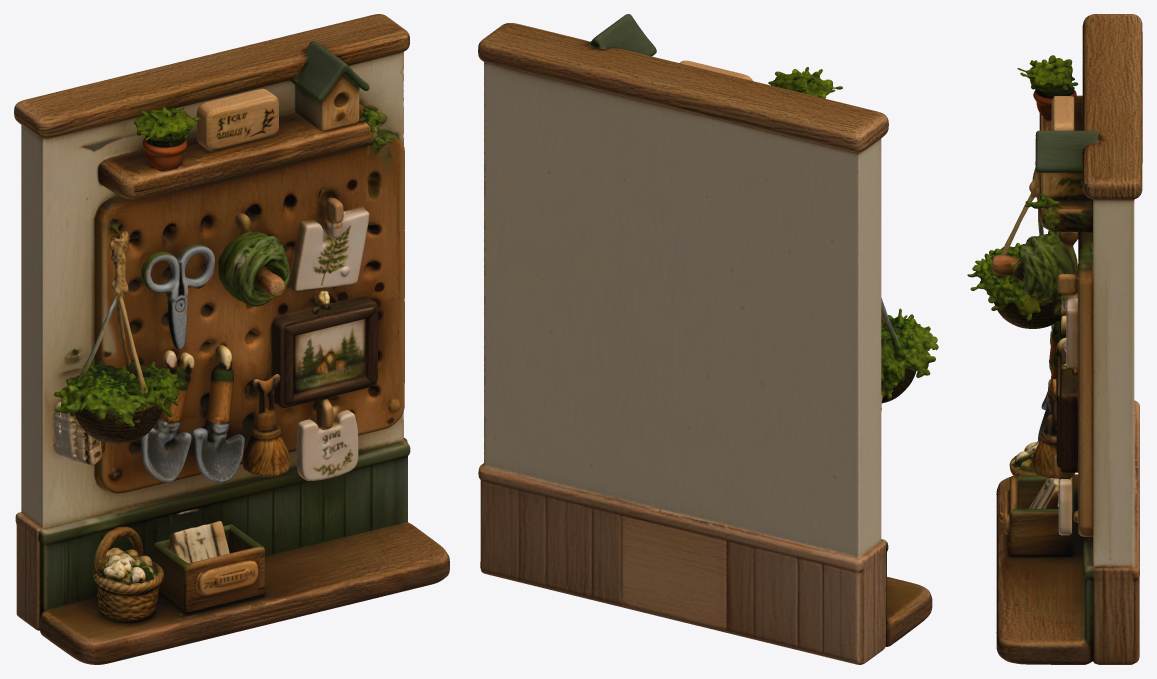
File: C07-木质迷你工具板3d模型.glb
3 renders of one model, left to right at view 1: azimuth 30°, elevation 25°; view 2: azimuth 150°, elevation 25°; view 3: azimuth 270°, elevation 25°, orthographic. The views are drawn at different scales.
Visible parts, largest first — view 1: tripo_node_0944fab5-f02f-4e29-8cd1-57a3e54fe517; view 2: tripo_node_0944fab5-f02f-4e29-8cd1-57a3e54fe517; view 3: tripo_node_0944fab5-f02f-4e29-8cd1-57a3e54fe517.
Part boxes in pixels (x1,y1,x2,y2): tripo_node_0944fab5-f02f-4e29-8cd1-57a3e54fe517: [14, 14, 449, 664]; tripo_node_0944fab5-f02f-4e29-8cd1-57a3e54fe517: [478, 14, 938, 664]; tripo_node_0944fab5-f02f-4e29-8cd1-57a3e54fe517: [967, 14, 1142, 664].
Bounding box in the file's own units: 0.7646 × 1 × 0.3211.
Materials: 1 (1 with a texture image).
